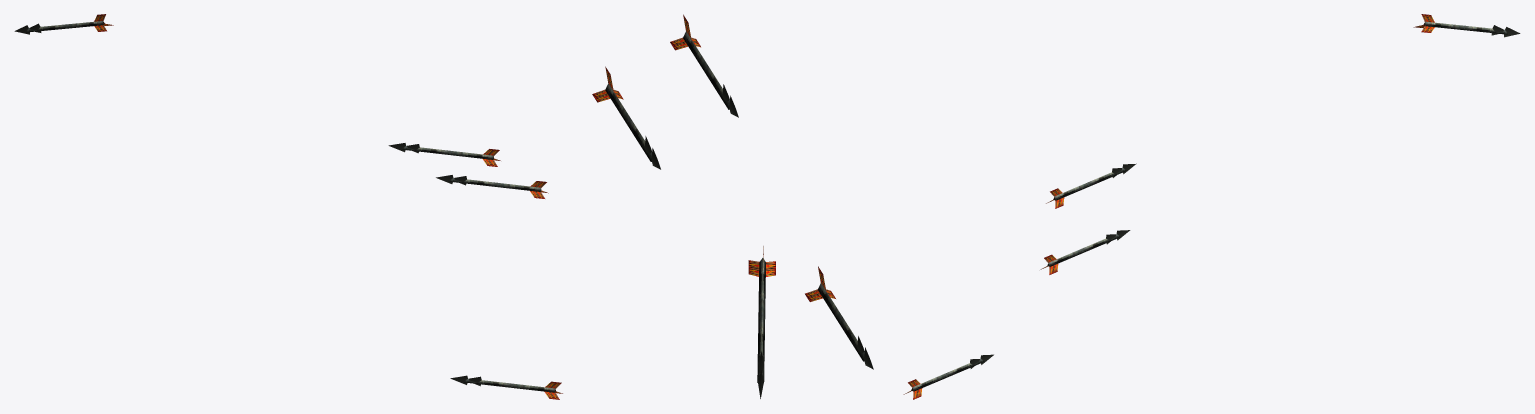
The model's file is CH11CIN2_ANIM_INST.fbx.
3 renders of one model, left to right at view 1: azimuth 30°, elevation 25°; view 2: azimuth 150°, elevation 25°; view 3: azimuth 270°, elevation 25°, orthographic. The views are drawn at different scales.
Parts seen in each view (by area): view 1: CH11CIN2_ANIM_INST; view 2: CH11CIN2_ANIM_INST; view 3: CH11CIN2_ANIM_INST.
Part boxes in pixels (<box>): CH11CIN2_ANIM_INST: <box>14,14,562,399</box>; CH11CIN2_ANIM_INST: <box>592,14,873,398</box>; CH11CIN2_ANIM_INST: <box>903,14,1520,399</box>.
Bounding box in the file's own units: 28054 × 22101 × 45350.
Materials: 1 (1 with a texture image).
